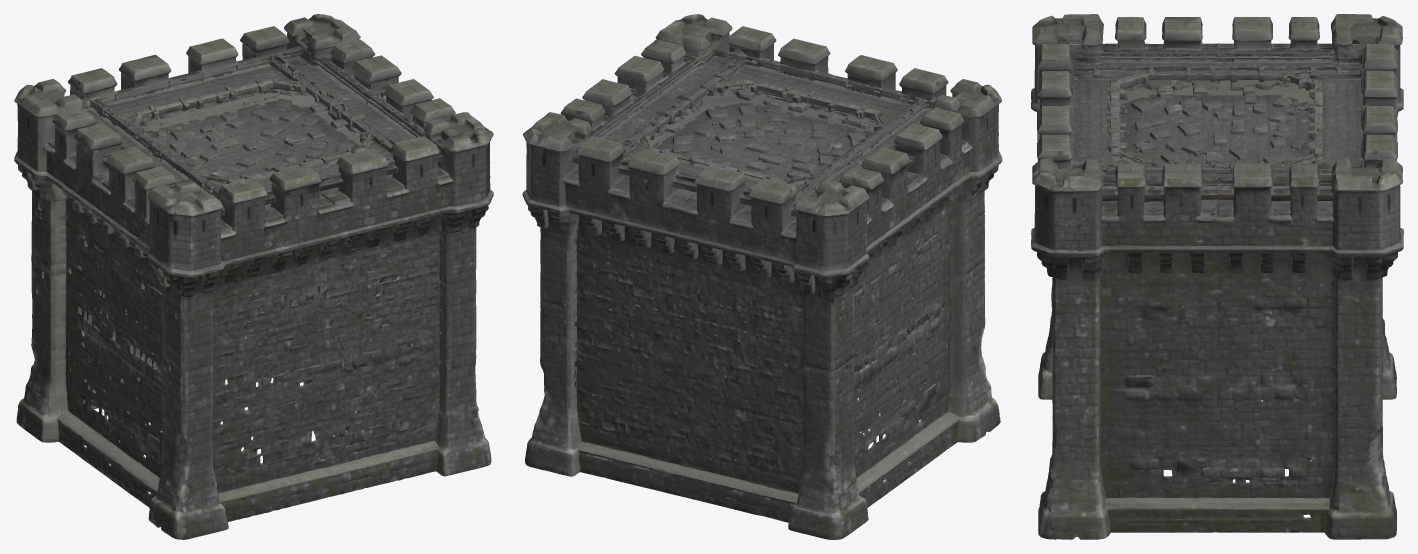
The picture shows the model from 3 angles, left to right: view 1: azimuth 30°, elevation 25°; view 2: azimuth 150°, elevation 25°; view 3: azimuth 270°, elevation 25°; orthographic projection. The views are drawn at different scales.
Visible parts, largest first — view 1: geometry_0; view 2: geometry_0; view 3: geometry_0.
Part boxes in pixels (x1,y1,x2,y2): geometry_0: (14, 14, 493, 539); geometry_0: (522, 14, 1002, 539); geometry_0: (1031, 14, 1403, 539).
Bounding box in the file's own units: 15.32 × 15 × 14.07.
1 material, 1 textured.
